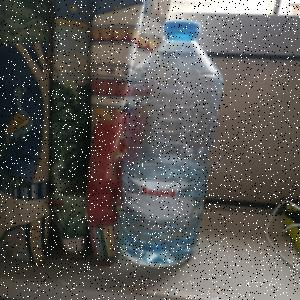Plastic-bottle: (119, 21, 227, 271)
